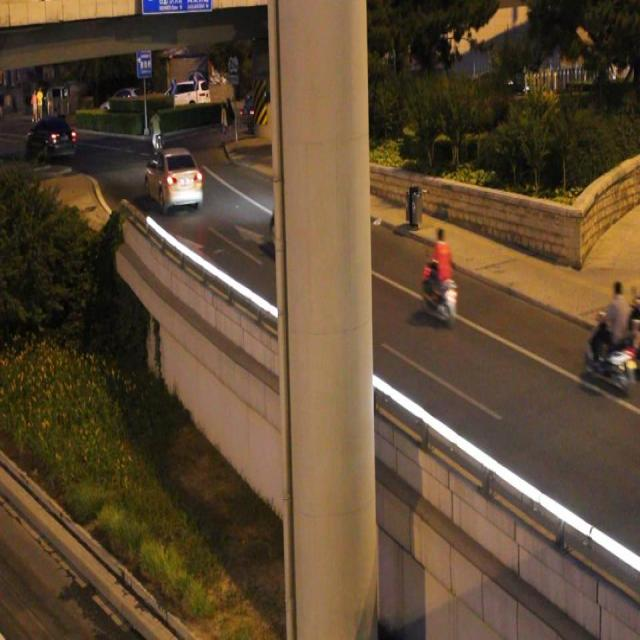car: (270, 185, 357, 268), (145, 147, 203, 211)
